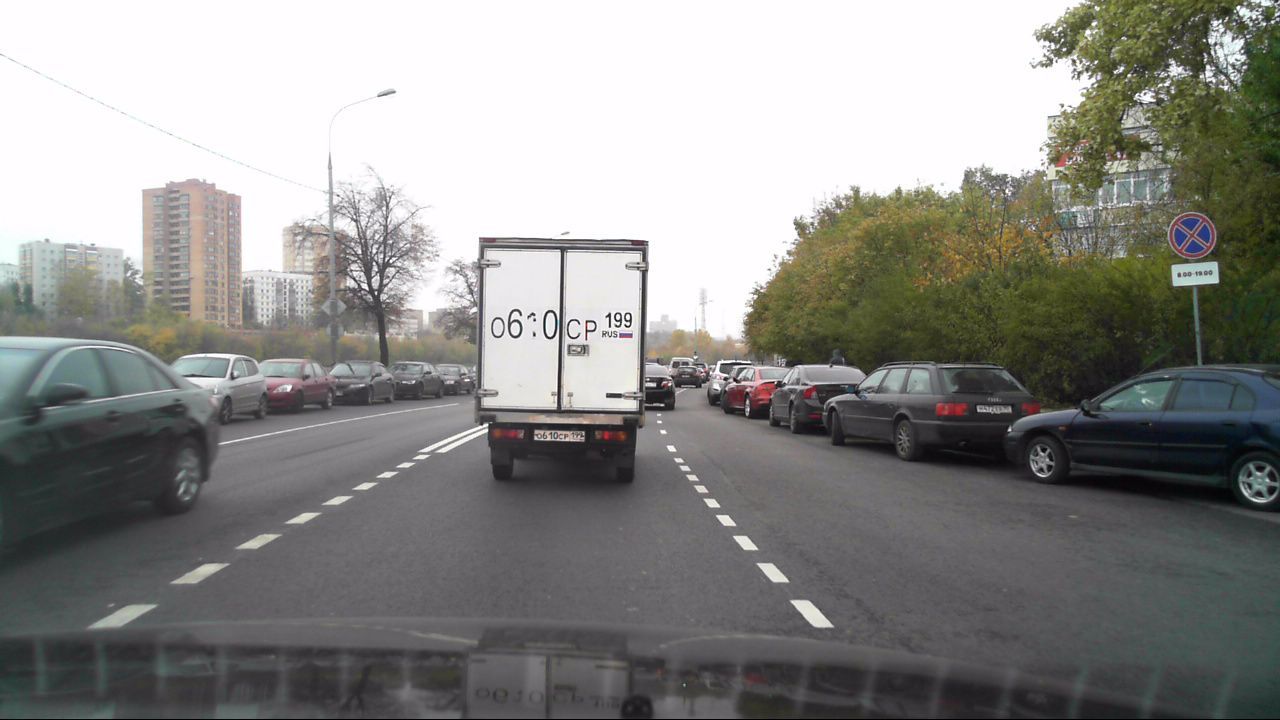No Parking: (1167, 210, 1216, 260)
